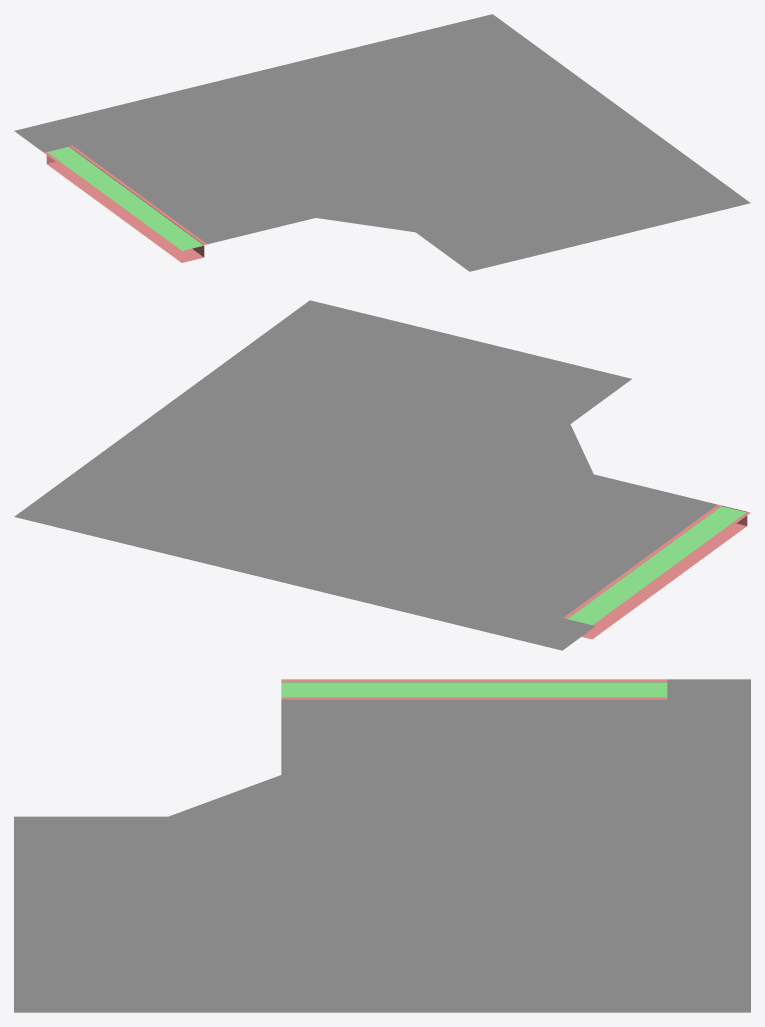
The model's file is S_Envi_Central_Building_003.gltf.
The picture shows the model from 3 angles, top to bottom: view 1: azimuth 30°, elevation 25°; view 2: azimuth 150°, elevation 25°; view 3: azimuth 270°, elevation 25°; orthographic projection. The views are drawn at different scales.
Visible parts, largest first — view 1: S_Envi_Central_Building_003; view 2: S_Envi_Central_Building_003; view 3: S_Envi_Central_Building_003.
Boxes of the visible parts, x1=… form: S_Envi_Central_Building_003: x1=14, y1=14, x2=750, y2=271; S_Envi_Central_Building_003: x1=14, y1=300, x2=750, y2=650; S_Envi_Central_Building_003: x1=14, y1=679, x2=750, y2=1012.
Bounding box in the file's own units: 19.52 × 0.487 × 18.25.
